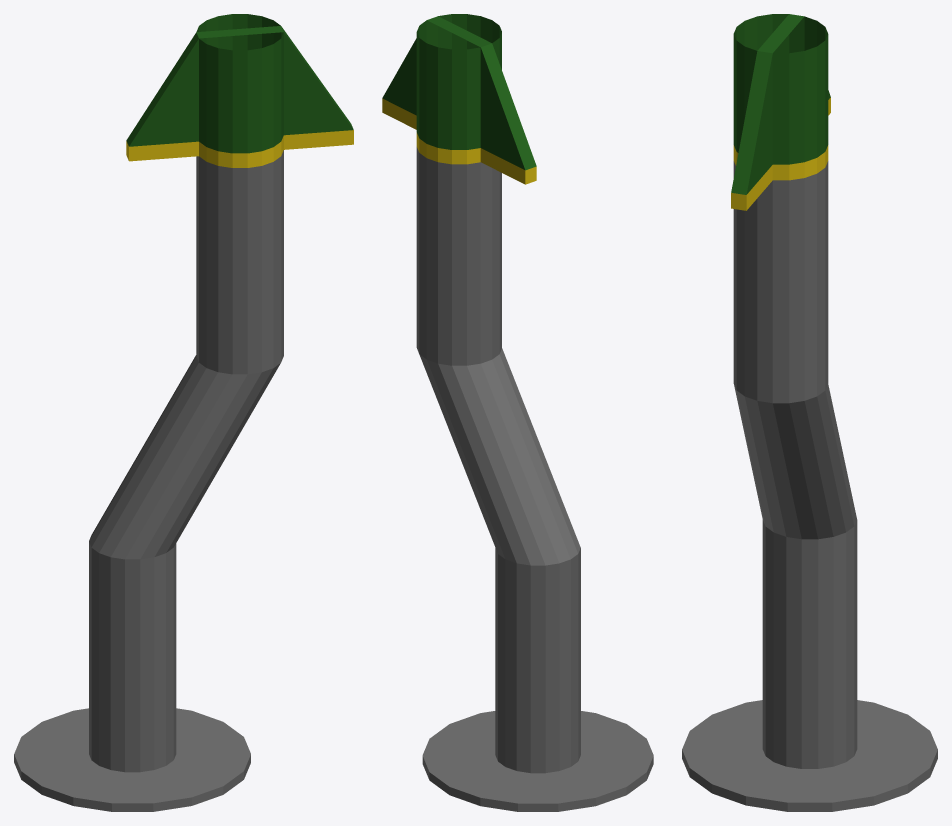
The model's file is FloorLampBreakroom.glb.
3 views of the same model, side by side, from view 1: azimuth 30°, elevation 25°; view 2: azimuth 150°, elevation 25°; view 3: azimuth 270°, elevation 25° (orthographic). The views are drawn at different scales.
Parts seen in each view (by area): view 1: Circle; view 2: Circle; view 3: Circle.
Part boxes in pixels (x1,y1,x2,y2): Circle: (14, 14, 353, 811); Circle: (382, 14, 653, 811); Circle: (682, 14, 937, 811).
Bounding box in the file's own units: 1.41 × 3.34 × 1.
